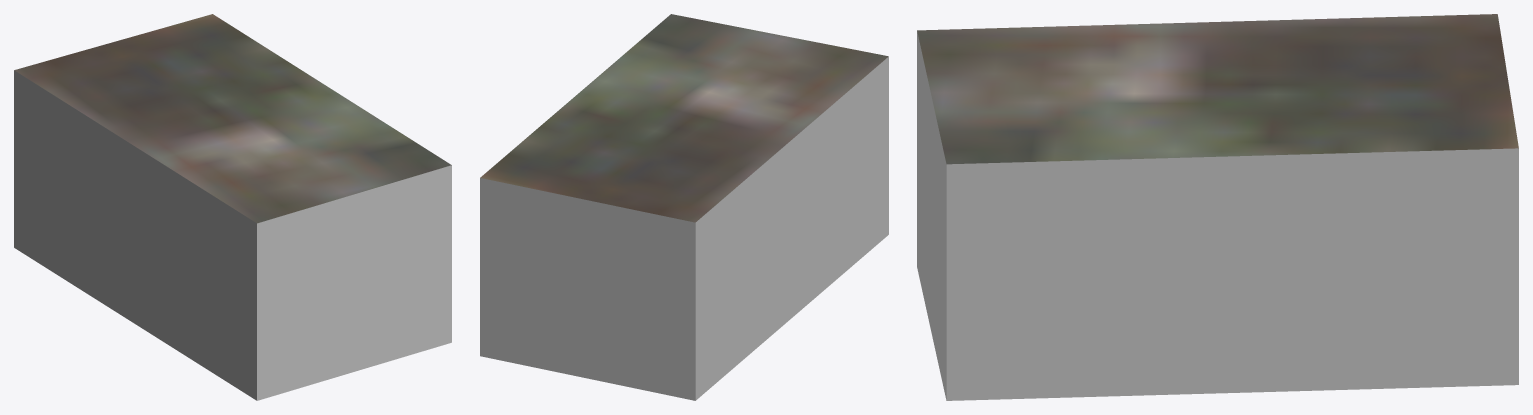
Rendered from DEBW_0010007Tx98.gltf.
The picture shows the model from 3 angles, left to right: view 1: azimuth 30°, elevation 25°; view 2: azimuth 150°, elevation 25°; view 3: azimuth 270°, elevation 25°; orthographic projection. The views are drawn at different scales.
Visible parts, largest first — view 1: Z_UP; view 2: Z_UP; view 3: Z_UP.
Boxes of the visible parts, bbox=[...] form: Z_UP: bbox=[14, 14, 451, 400]; Z_UP: bbox=[480, 14, 888, 400]; Z_UP: bbox=[917, 14, 1518, 400].
Size of the model in its own units: 3.02 by 2.22 by 5.11.
Materials: 2 (1 with a texture image).
